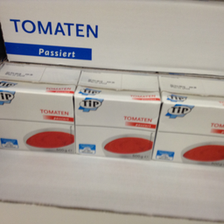tomato_sauce: (72, 69, 161, 160), (1, 64, 82, 154), (150, 74, 224, 167)
